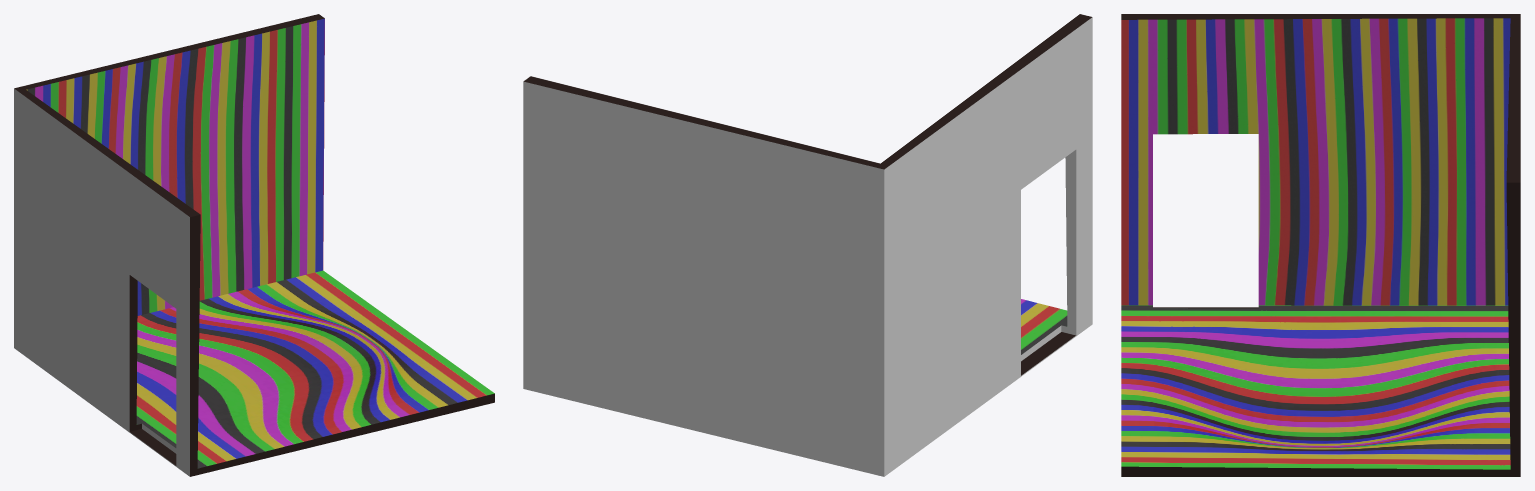
The model's file is salle.glb.
3 renders of one model, left to right at view 1: azimuth 30°, elevation 25°; view 2: azimuth 150°, elevation 25°; view 3: azimuth 270°, elevation 25°, orthographic. The views are drawn at different scales.
Parts seen in each view (by area): view 1: Cube; view 2: Cube; view 3: Cube.
Part boxes in pixels (x1,y1,x2,y2): Cube: [14, 14, 494, 476]; Cube: [523, 14, 1092, 476]; Cube: [1121, 14, 1520, 476].
Bounding box in the file's own units: 2.29 × 1.86 × 2.29.
Materials: 4 (2 with a texture image).
